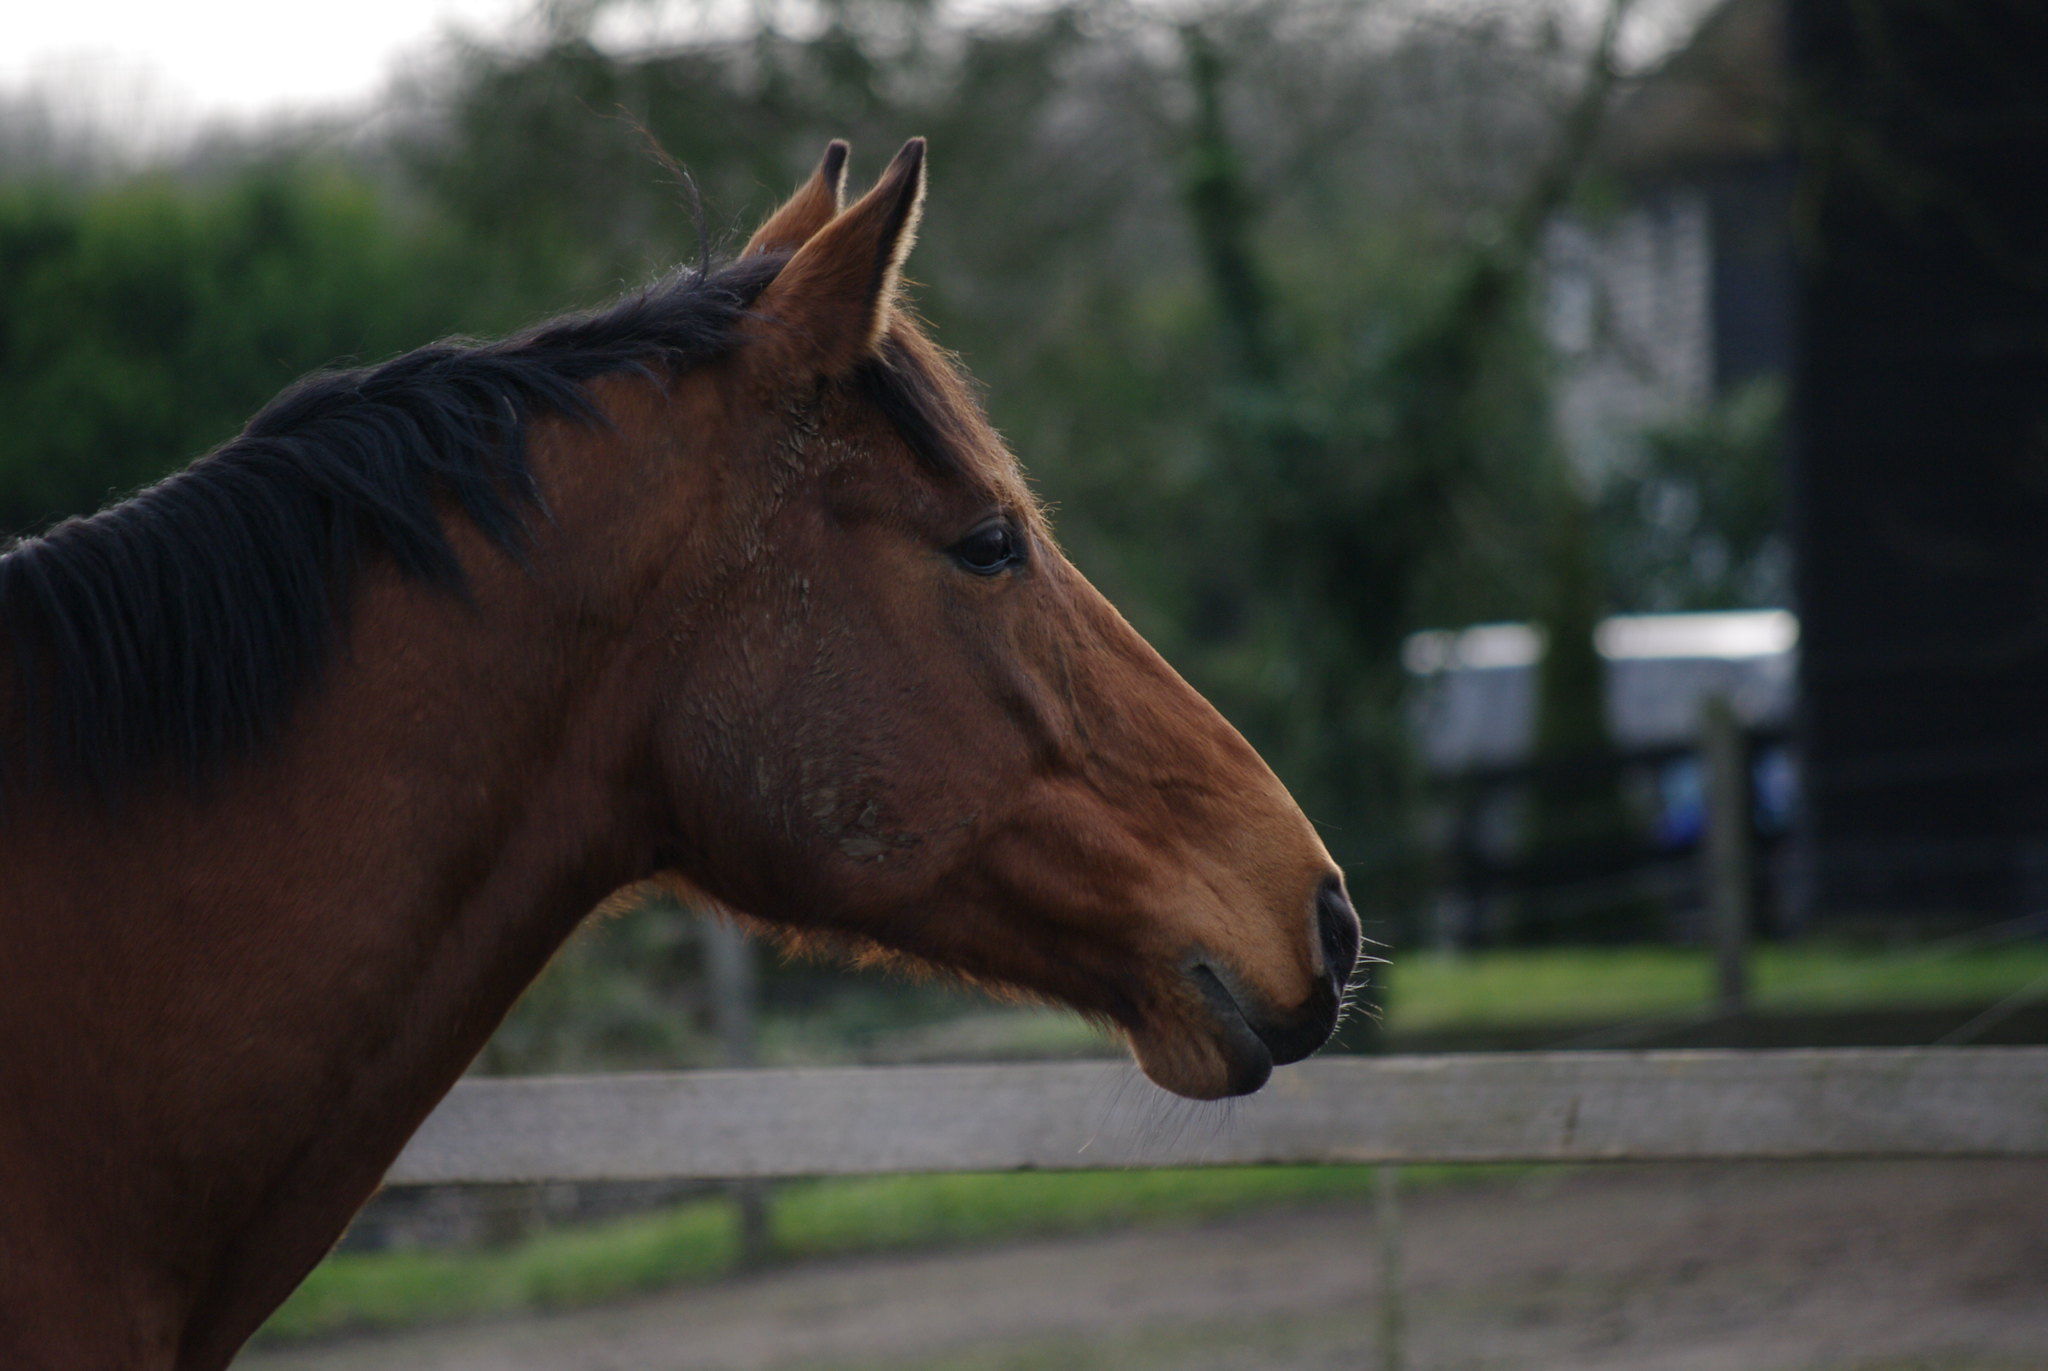horse: (2, 119, 1393, 1368)
